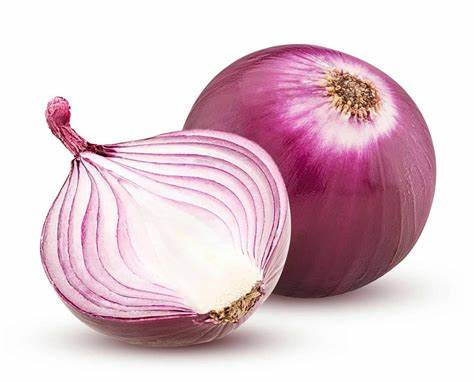Onion: (178, 41, 441, 307)
